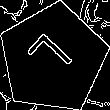L_SE: (24, 30, 82, 87)
